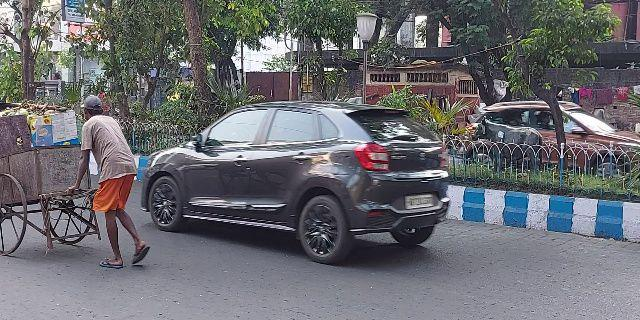Car: (138, 97, 454, 254)
